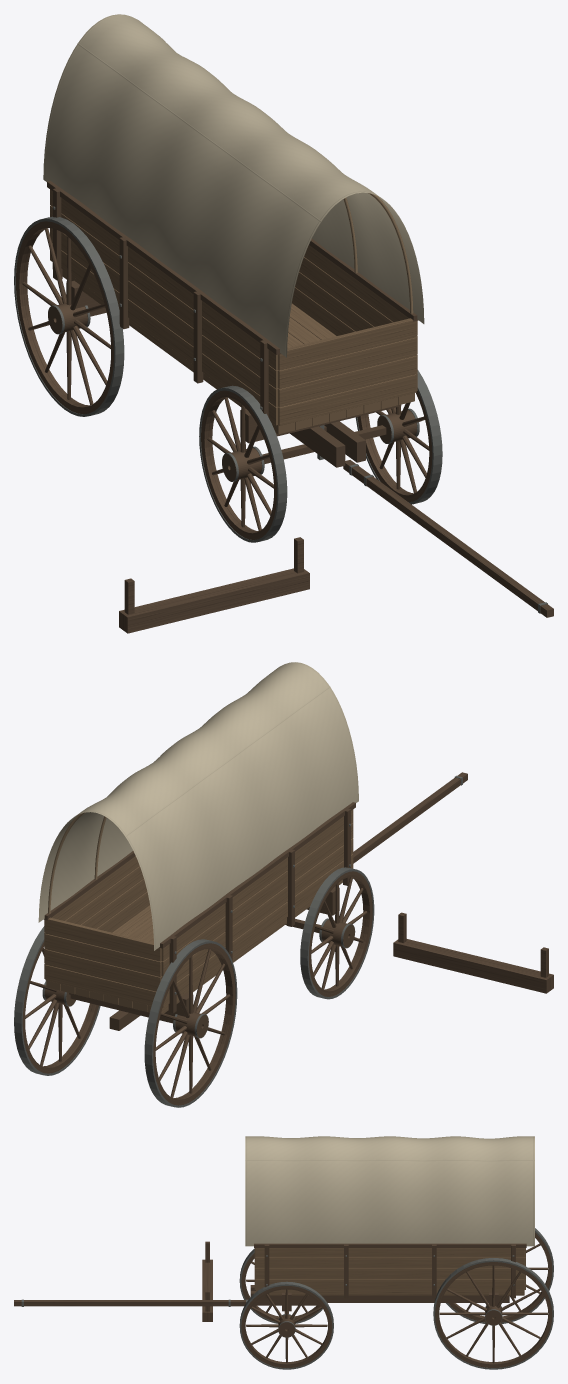
File: covered-w01.glb
3 views of the same model, one above another, from view 1: azimuth 30°, elevation 25°; view 2: azimuth 150°, elevation 25°; view 3: azimuth 270°, elevation 25° (orthographic). The views are drawn at different scales.
Parts seen in each view (by area): view 1: covered_original_canvas_sheet, vehicle_body_plank_b, vehicle_body_plank_a, vehicle_wheel_rear_right_timber, vehicle_body_paint, covered_preserved_laid_by_yoke, vehicle_wheel_front_right_timber, vehicle_wheel_rear_right_iron, vehicle_tongue_timber, vehicle_wheel_front_left_timber, vehicle_steer_front_paint, vehicle_wheel_front_right_iron (+7 smaller); view 2: covered_original_canvas_sheet, vehicle_body_plank_b, vehicle_body_plank_a, vehicle_wheel_rear_right_timber, vehicle_body_paint, covered_preserved_laid_by_yoke, vehicle_wheel_front_right_timber, vehicle_wheel_rear_left_timber, vehicle_wheel_rear_right_iron, vehicle_wheel_front_right_iron, vehicle_wheel_rear_left_iron, vehicle_tongue_timber (+5 smaller); view 3: covered_original_canvas_sheet, vehicle_body_plank_b, vehicle_body_plank_a, vehicle_wheel_rear_left_timber, vehicle_wheel_front_left_timber, vehicle_body_paint, vehicle_tongue_timber, vehicle_root_paint, vehicle_wheel_rear_left_iron, covered_original_sewn_and_folded_hems, vehicle_wheel_rear_right_timber, vehicle_wheel_front_left_iron (+5 smaller).
Part boxes in pixels (box(x1,y1,x2,y2)): covered_original_canvas_sheet: box(43, 14, 424, 357); vehicle_body_plank_b: box(50, 189, 417, 430); vehicle_body_plank_a: box(50, 205, 417, 434); vehicle_wheel_rear_right_timber: box(16, 221, 113, 414); vehicle_body_paint: box(47, 181, 418, 416); covered_preserved_laid_by_yoke: box(119, 537, 309, 633); vehicle_wheel_front_right_timber: box(201, 390, 276, 539); vehicle_wheel_rear_right_iron: box(14, 216, 124, 416); vehicle_tongue_timber: box(343, 460, 553, 617); vehicle_wheel_front_left_timber: box(357, 391, 432, 502); vehicle_steer_front_paint: box(262, 421, 386, 467); vehicle_wheel_front_right_iron: box(199, 385, 287, 542); covered_original_canvas_sheet: box(38, 662, 358, 950); vehicle_body_plank_b: box(44, 809, 353, 1011); vehicle_body_plank_a: box(44, 823, 353, 1013); vehicle_wheel_rear_right_timber: box(153, 943, 235, 1105); vehicle_body_paint: box(43, 802, 355, 1013); covered_preserved_laid_by_yoke: box(393, 912, 553, 993); vehicle_wheel_front_right_timber: box(309, 871, 372, 996); vehicle_wheel_rear_left_timber: box(22, 941, 99, 1073); vehicle_wheel_rear_right_iron: box(144, 939, 237, 1107); vehicle_wheel_front_right_iron: box(300, 867, 374, 999); vehicle_wheel_rear_left_iron: box(14, 926, 100, 1075); vehicle_tongue_timber: box(353, 772, 467, 863); covered_original_canvas_sheet: box(245, 1136, 534, 1246); vehicle_body_plank_b: box(254, 1248, 525, 1295); vehicle_body_plank_a: box(254, 1257, 525, 1290); vehicle_wheel_rear_left_timber: box(435, 1262, 552, 1367); vehicle_wheel_front_left_timber: box(241, 1286, 332, 1367); vehicle_body_paint: box(254, 1243, 526, 1298); vehicle_tongue_timber: box(14, 1300, 255, 1306); vehicle_root_paint: box(282, 1292, 509, 1311); vehicle_wheel_rear_left_iron: box(433, 1258, 553, 1369); covered_original_sewn_and_folded_hems: box(245, 1136, 534, 1246); vehicle_wheel_rear_right_timber: box(448, 1232, 552, 1322); vehicle_wheel_front_left_iron: box(239, 1281, 333, 1369).
Size of the model in its own units: 2.77 by 2.6 by 6.14.
9 materials, 9 textured.
